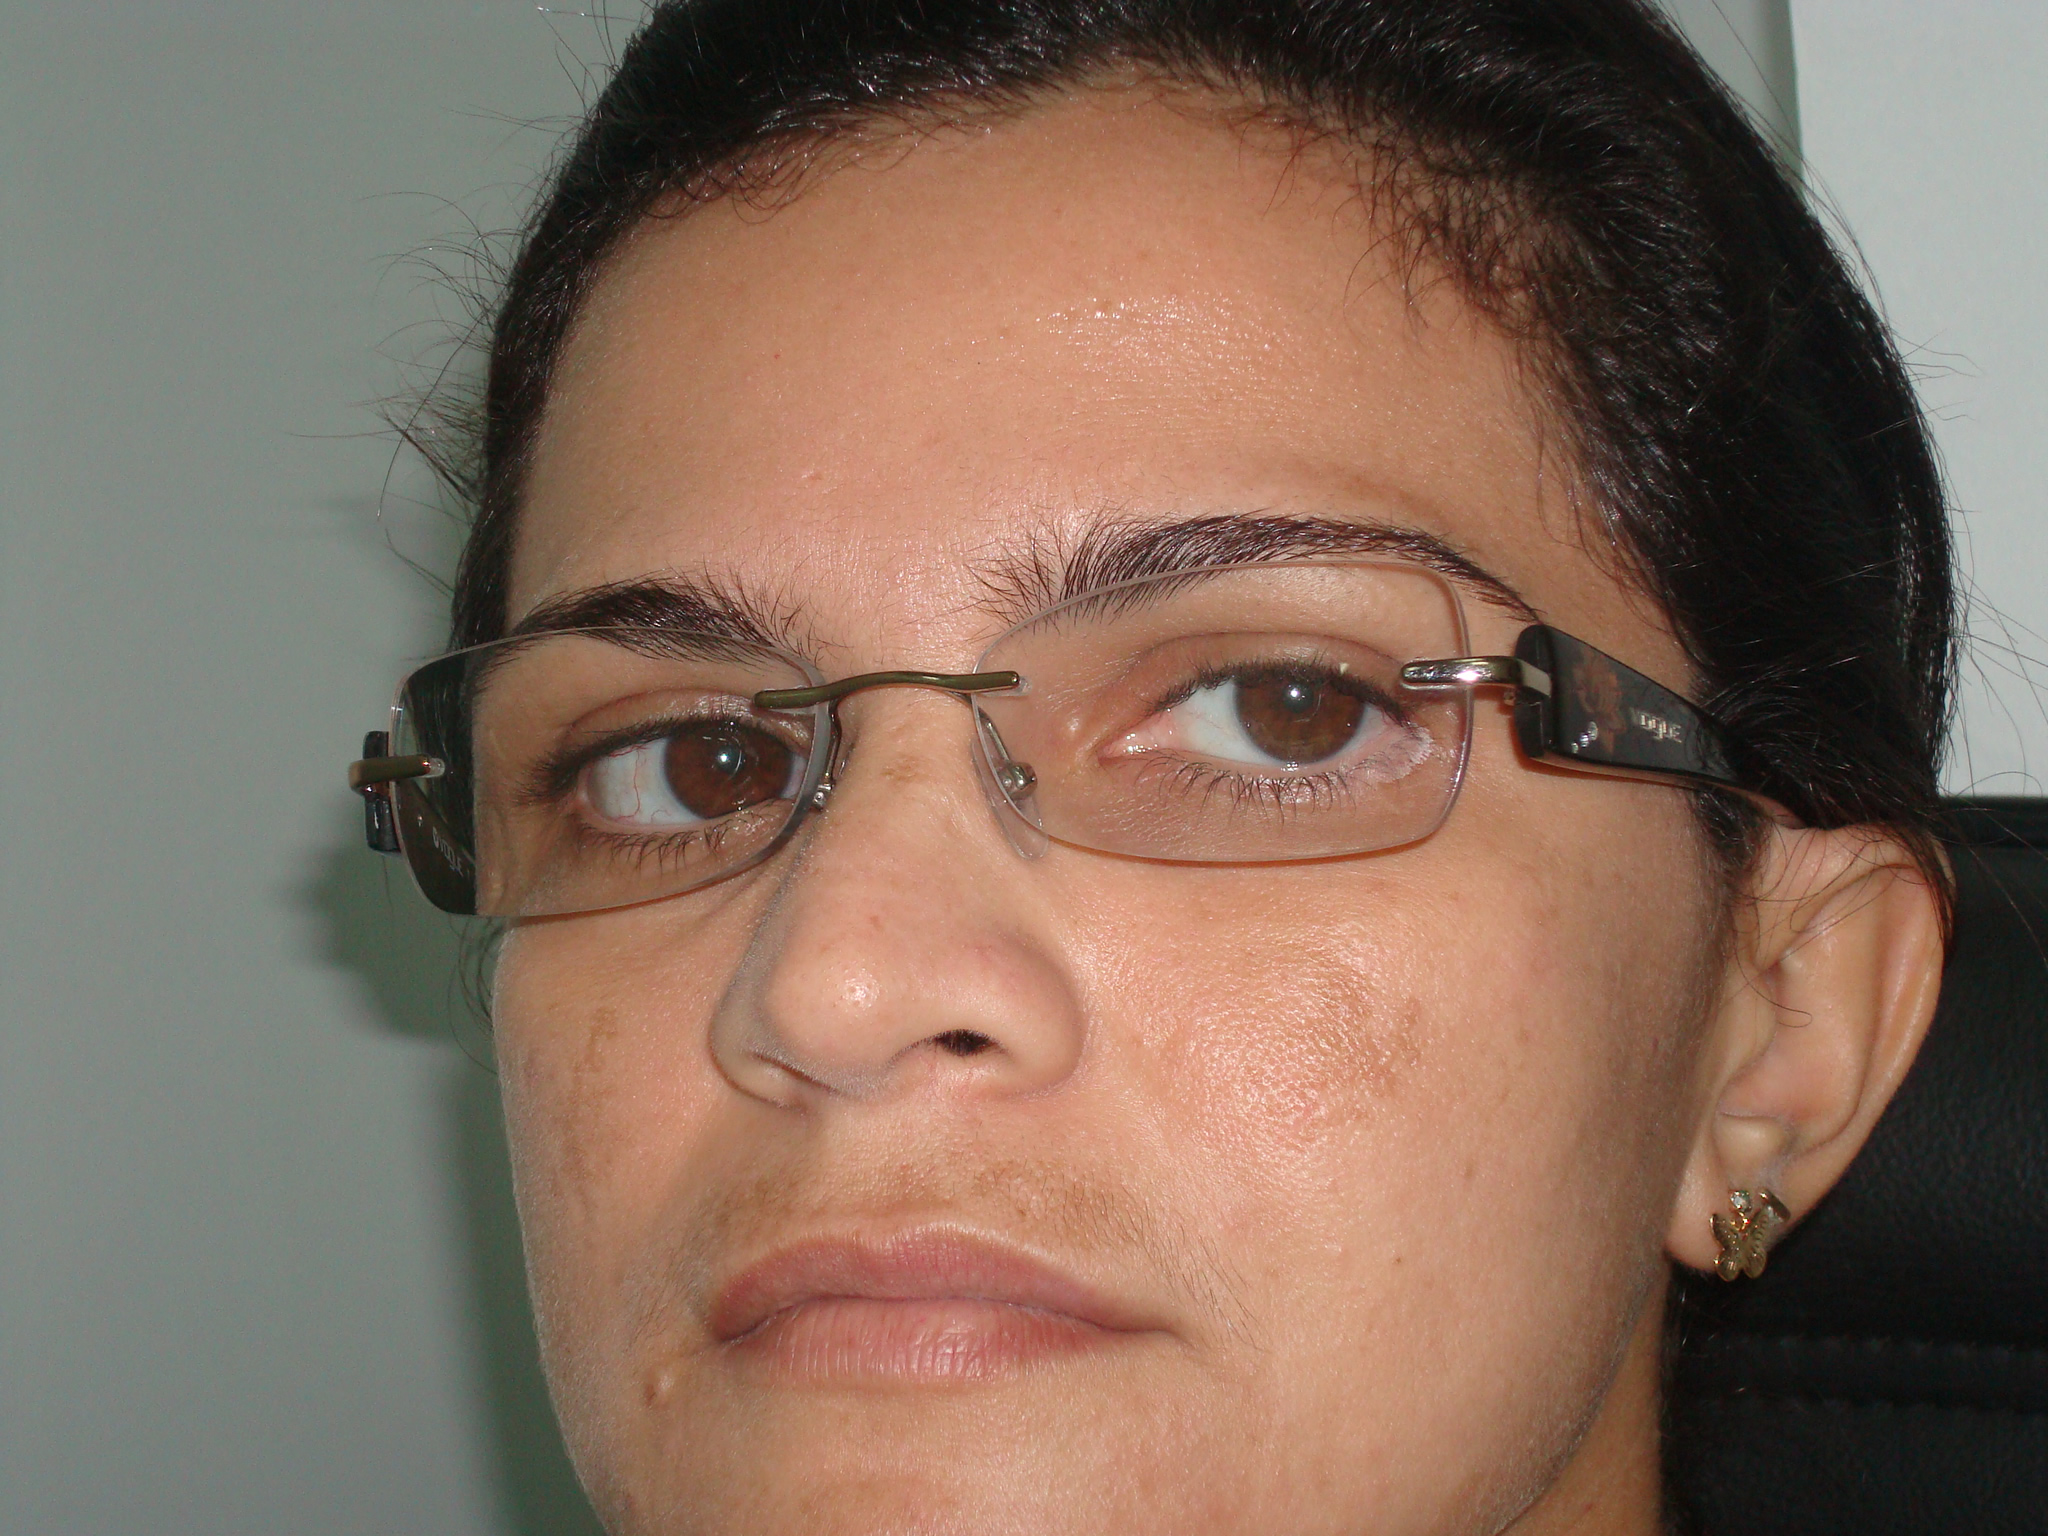flash: (1284, 681, 1305, 703), (714, 747, 734, 766)
limbo: (1227, 642, 1364, 752), (671, 700, 789, 816)
